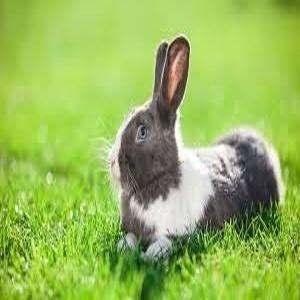rabbit: (109, 36, 285, 261)
